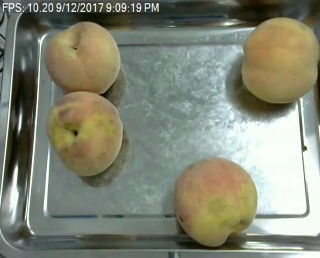Peach: (173, 157, 258, 247), (240, 16, 319, 104), (49, 90, 124, 176), (44, 21, 121, 95)
